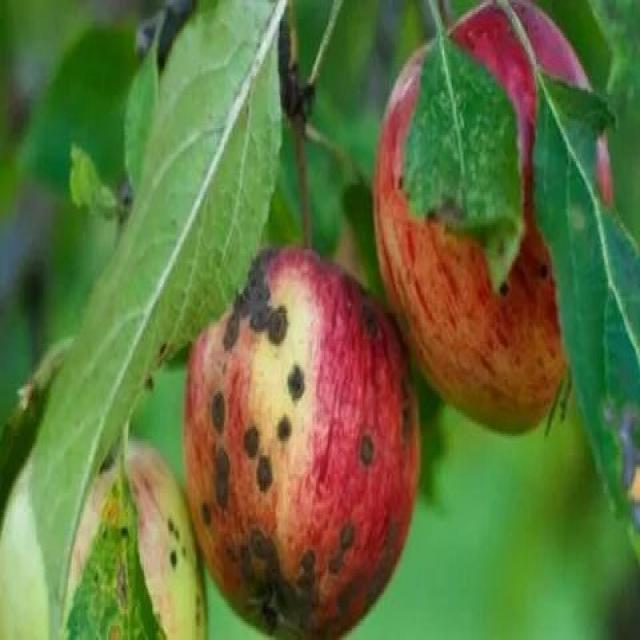Fresh Apple: (354, 12, 626, 410)
Rotten: (192, 246, 398, 636)
